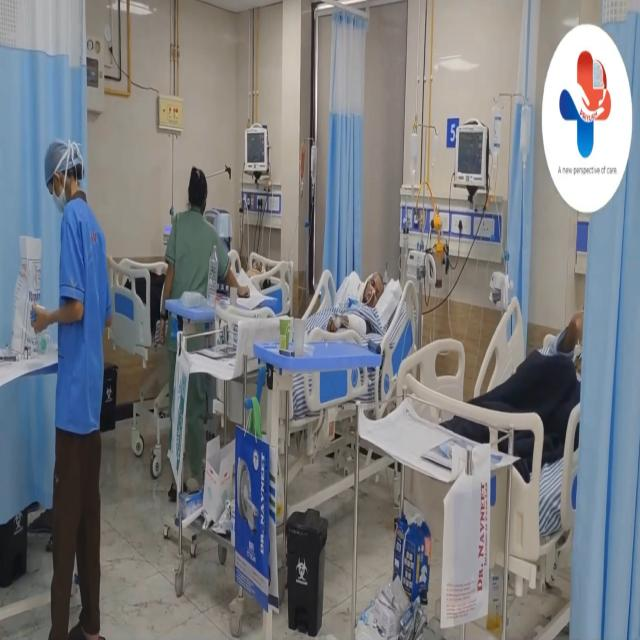Nurse: (41, 125, 120, 640), (160, 114, 226, 584)
Patient: (529, 266, 586, 431), (340, 246, 396, 350)
